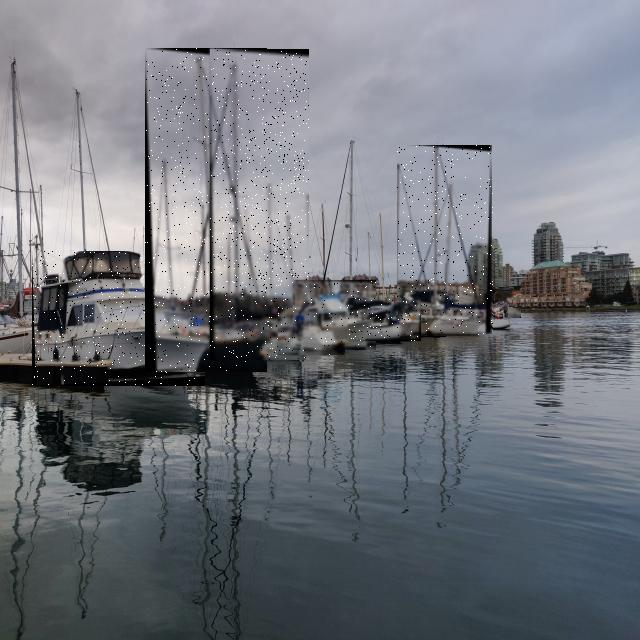boat: (145, 48, 267, 372), (210, 49, 309, 360), (32, 251, 205, 386), (398, 146, 493, 336), (293, 280, 376, 350), (348, 298, 421, 341), (278, 308, 338, 355), (386, 302, 446, 337)
skiff: (508, 308, 521, 318)
